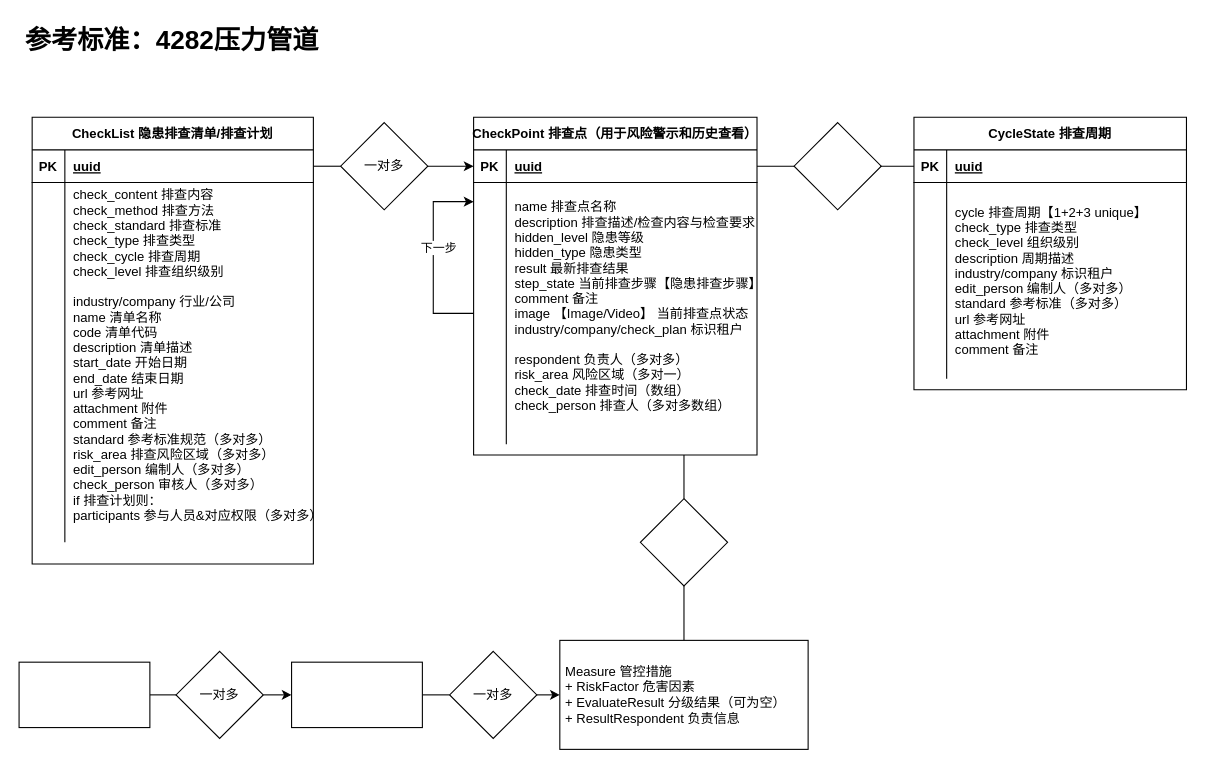
The diagram is 1206 pixels wide and 768 high, and some of its shapes have lost their labels. The shapes that lost their labels are listed below. From the top down, each one's centre as x and y in pixels, then its label:
At point 837,166: "多对多".
At point 683,542: "一对一".
At point 84,694: "RiskPoint 风险点".
At point 356,694: "RiskUnit 风险单元".
